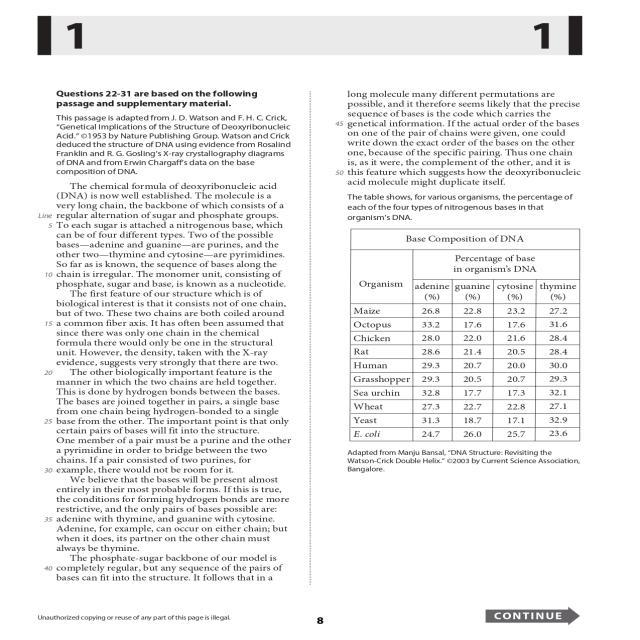Instruction: (38, 82, 304, 590), (315, 83, 593, 476)
Question_Paper_Area: (316, 82, 594, 590), (39, 84, 306, 590)
